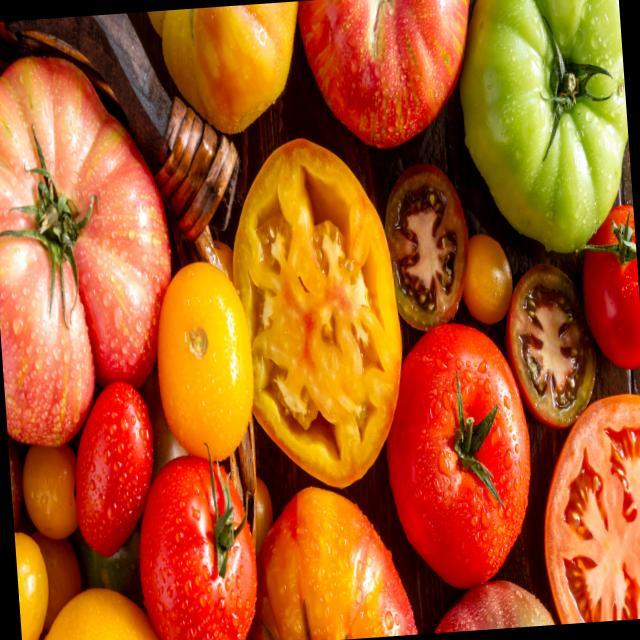TOMATO: (0, 49, 181, 446), (224, 131, 411, 496), (457, 0, 635, 253), (384, 325, 540, 590), (251, 475, 418, 640), (296, 0, 476, 150), (134, 454, 261, 640), (539, 392, 640, 624), (145, 0, 308, 134), (153, 260, 258, 463), (508, 256, 602, 420), (68, 380, 158, 544), (382, 154, 466, 316), (580, 205, 640, 370), (427, 574, 559, 632), (42, 581, 167, 640), (20, 440, 78, 540), (465, 230, 513, 322), (14, 530, 51, 640), (36, 530, 79, 607), (8, 445, 27, 531)
